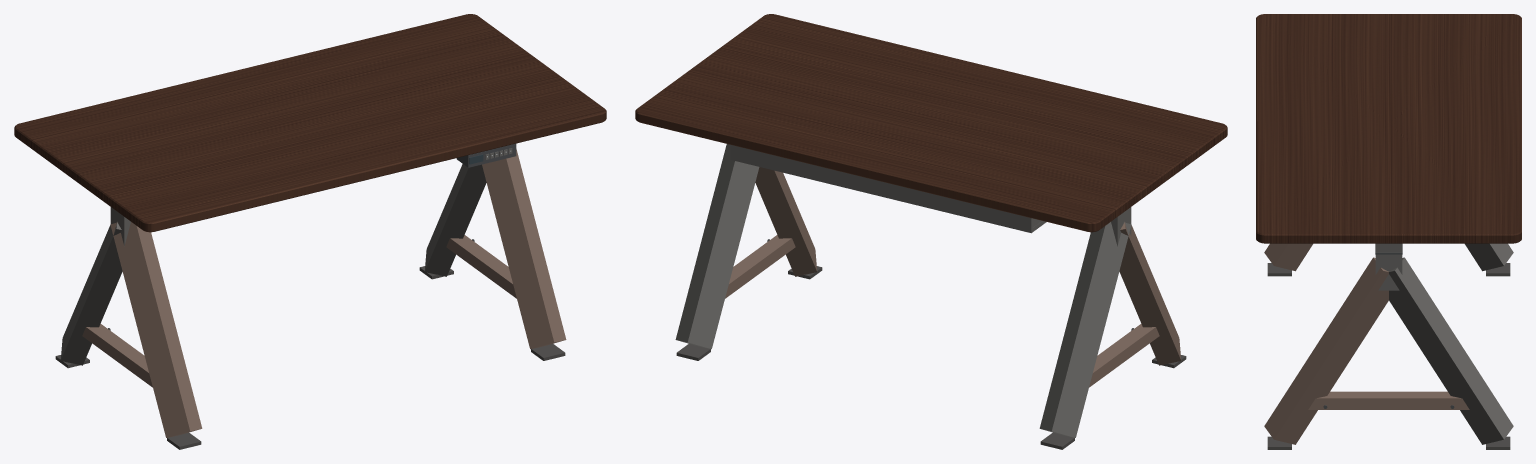
3 renders of one model, left to right at view 1: azimuth 30°, elevation 25°; view 2: azimuth 150°, elevation 25°; view 3: azimuth 270°, elevation 25°, orthographic. The views are drawn at different scales.
Visible parts, largest first — view 1: rounded bevel solid walnut desktop, left front splayed leg, right front splayed leg, left rear splayed leg, right rear splayed leg, right lower A cross tie, left lower A cross tie; view 2: rounded bevel solid walnut desktop, left rear splayed leg, right rear splayed leg, rear cable tray back lip, left front splayed leg, right front splayed leg, right lower A cross tie, left lower A cross tie; view 3: rounded bevel solid walnut desktop, right front splayed leg, right rear splayed leg, right lower A cross tie, left front splayed leg, left rear splayed leg, right outer lift column.
Boxes of the visible parts, x1=… form: rounded bevel solid walnut desktop: x1=14, y1=14, x2=606, y2=232; left front splayed leg: x1=110, y1=222, x2=202, y2=437; right front splayed leg: x1=482, y1=149, x2=566, y2=349; left rear splayed leg: x1=60, y1=222, x2=122, y2=365; right rear splayed leg: x1=424, y1=164, x2=486, y2=276; right lower A cross tie: x1=446, y1=235, x2=516, y2=298; left lower A cross tie: x1=82, y1=324, x2=152, y2=387; rounded bevel solid walnut desktop: x1=635, y1=14, x2=1227, y2=232; left rear splayed leg: x1=1039, y1=222, x2=1131, y2=437; right rear splayed leg: x1=675, y1=144, x2=759, y2=349; rear cable tray back lip: x1=730, y1=144, x2=1032, y2=233; left front splayed leg: x1=1119, y1=222, x2=1181, y2=365; right front splayed leg: x1=755, y1=167, x2=817, y2=276; right lower A cross tie: x1=725, y1=235, x2=795, y2=298; left lower A cross tie: x1=1089, y1=324, x2=1159, y2=387; rounded bevel solid walnut desktop: x1=1256, y1=14, x2=1521, y2=243; right front splayed leg: x1=1264, y1=257, x2=1388, y2=444; right rear splayed leg: x1=1389, y1=257, x2=1513, y2=444; right lower A cross tie: x1=1308, y1=391, x2=1469, y2=409; left front splayed leg: x1=1264, y1=243, x2=1312, y2=271; left rear splayed leg: x1=1465, y1=243, x2=1513, y2=271; right outer lift column: x1=1375, y1=243, x2=1402, y2=290.
Size of the model in its own units: 1.4 by 0.6909 by 0.712.
7 materials, 1 textured.
